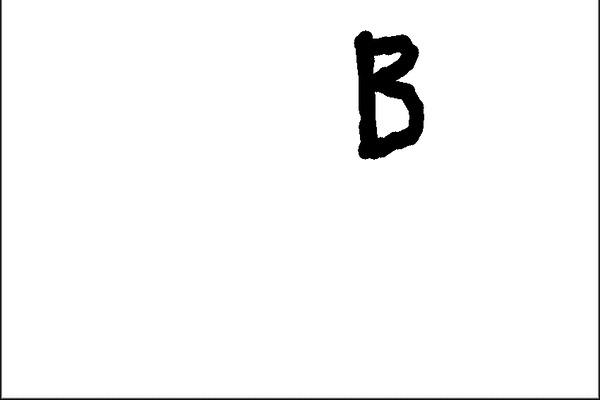B: (344, 22, 432, 163)
